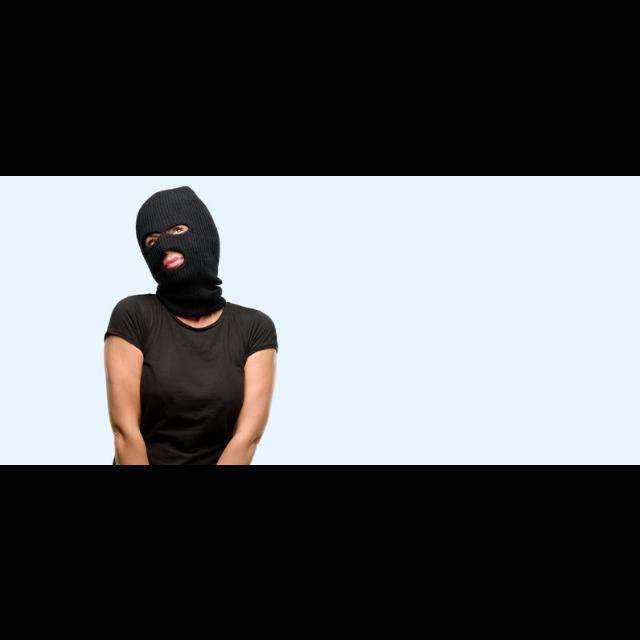criminal: (105, 185, 280, 465)
